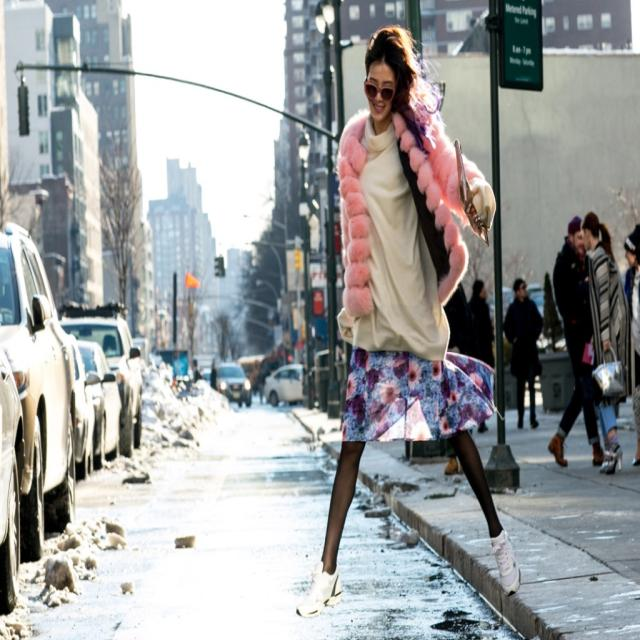body: (294, 21, 522, 620), (547, 214, 605, 468), (580, 210, 633, 476), (502, 276, 544, 430), (467, 278, 495, 432), (443, 276, 468, 356), (622, 223, 640, 320), (189, 356, 204, 384), (335, 343, 346, 362), (231, 368, 242, 379)
